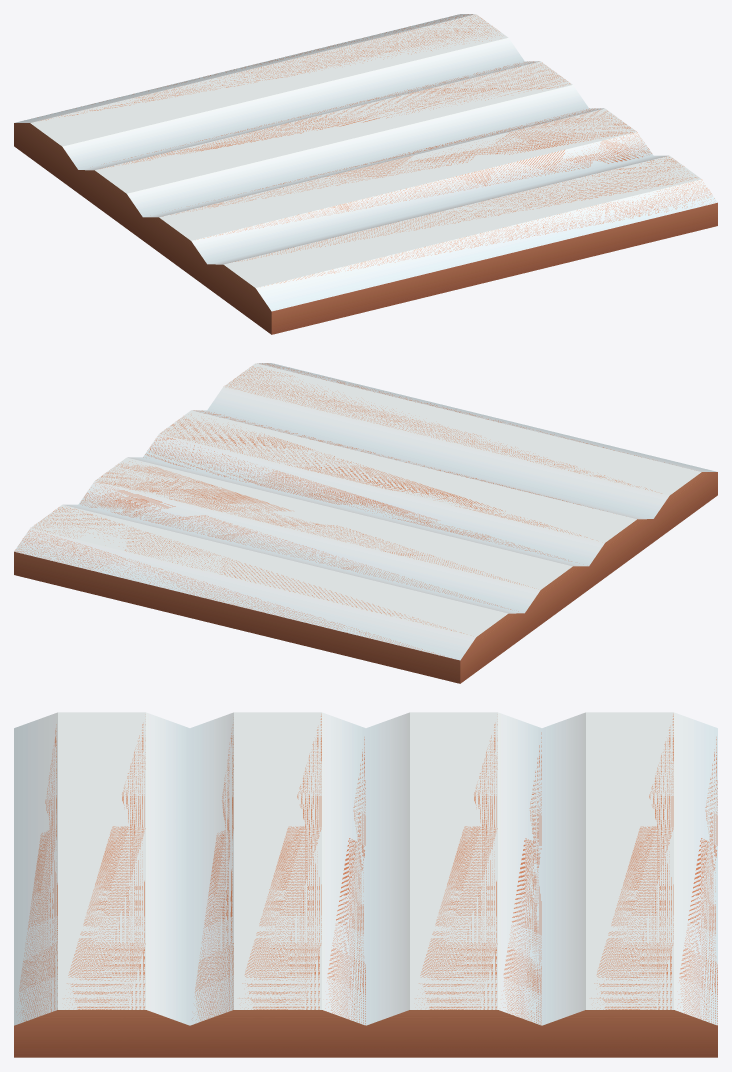
Rendered from kenney-holiday-floor-wood-snow.glb.
3 views of the same model, one above another, from view 1: azimuth 30°, elevation 25°; view 2: azimuth 150°, elevation 25°; view 3: azimuth 270°, elevation 25° (orthographic). The views are drawn at different scales.
Visible parts, largest first — view 1: floor-wood-snow; view 2: floor-wood-snow; view 3: floor-wood-snow.
Part boxes in pixels (bbox=[...]): floor-wood-snow: bbox=[14, 14, 717, 334]; floor-wood-snow: bbox=[14, 363, 717, 683]; floor-wood-snow: bbox=[14, 712, 717, 1057].
Size of the model in its own units: 1 by 0.075 by 1.
1 material, 1 textured.
